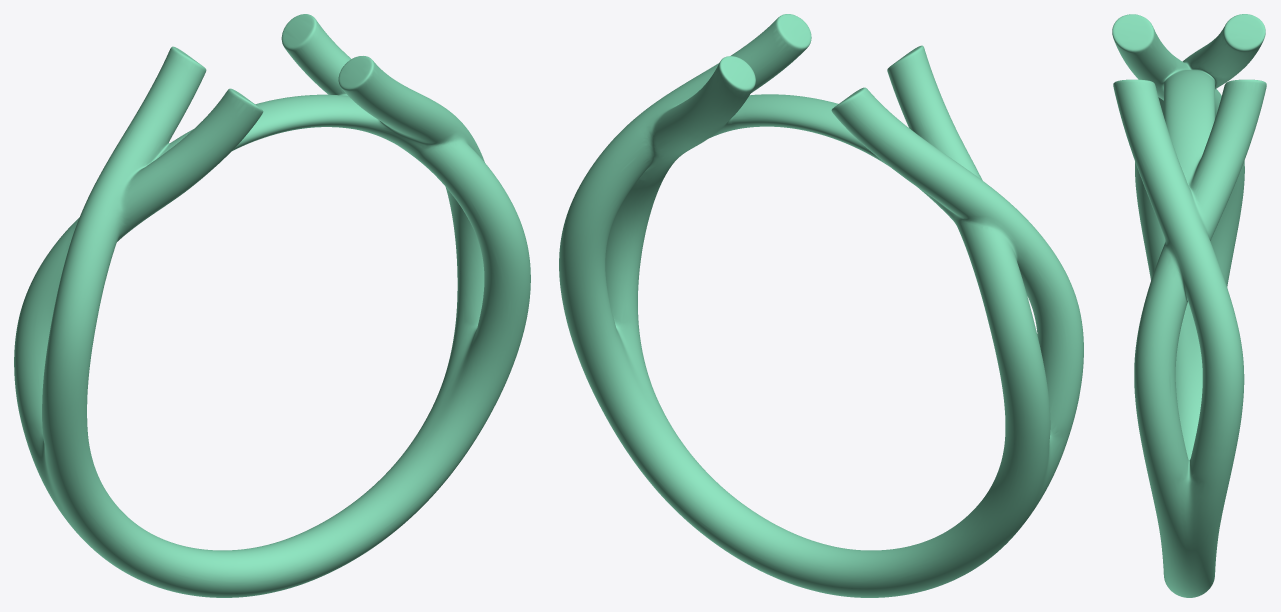
The picture shows the model from 3 angles, left to right: view 1: azimuth 30°, elevation 25°; view 2: azimuth 150°, elevation 25°; view 3: azimuth 270°, elevation 25°; orthographic projection.
Parts seen in each view (by area): view 1: Metal02; view 2: Metal02; view 3: Metal02.
Part boxes in pixels (box(x1,y1,x2,y2)): Metal02: box(14, 14, 530, 597); Metal02: box(559, 14, 1083, 597); Metal02: box(1112, 14, 1266, 597).
Bounding box in the file's own units: 21.11 × 22.22 × 5.92.
